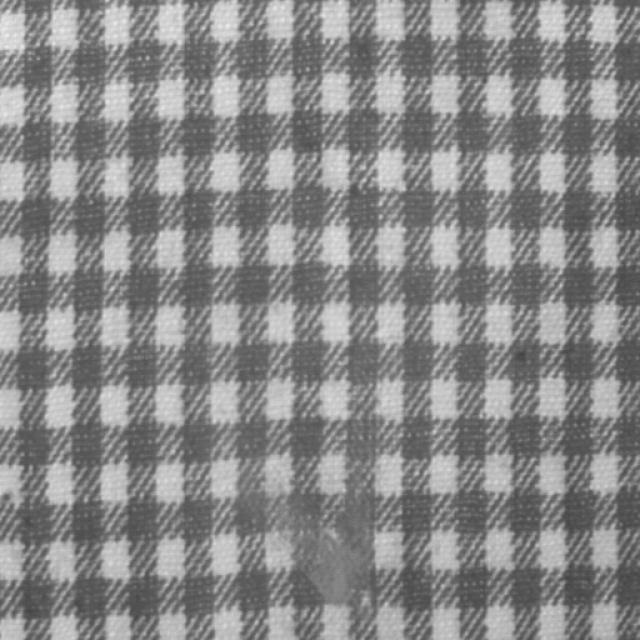Stain-Defect: (294, 508, 375, 608)
